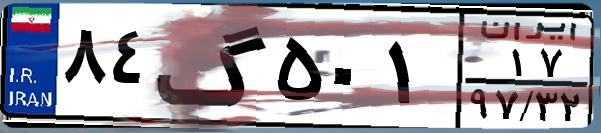0: (330, 28, 385, 110)
1: (385, 28, 445, 110), (508, 27, 537, 80)
2: (560, 70, 590, 125)
3: (535, 70, 560, 125)
4: (110, 28, 156, 98)
5: (270, 28, 330, 110)
7: (537, 27, 568, 80), (495, 70, 520, 125)
8: (57, 26, 110, 100)
9: (470, 70, 495, 125)
گ: (156, 12, 270, 120)
